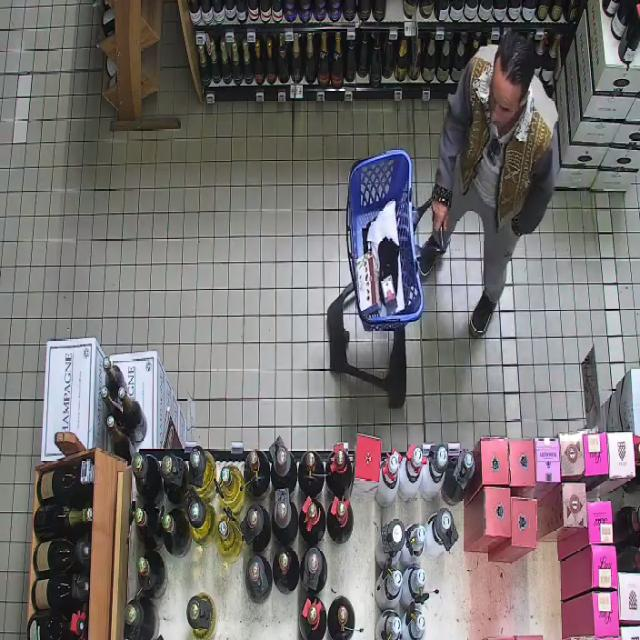hands: (433, 200, 448, 231)
person: (420, 32, 557, 333)
